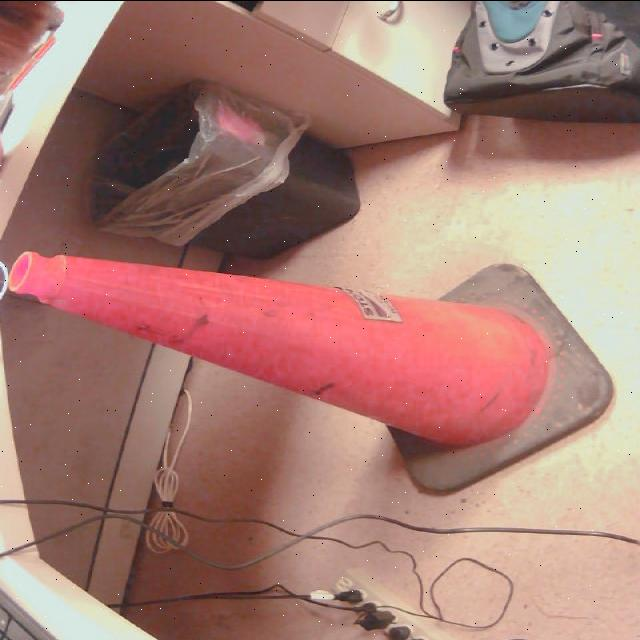traffic cone: (9, 250, 616, 497)
